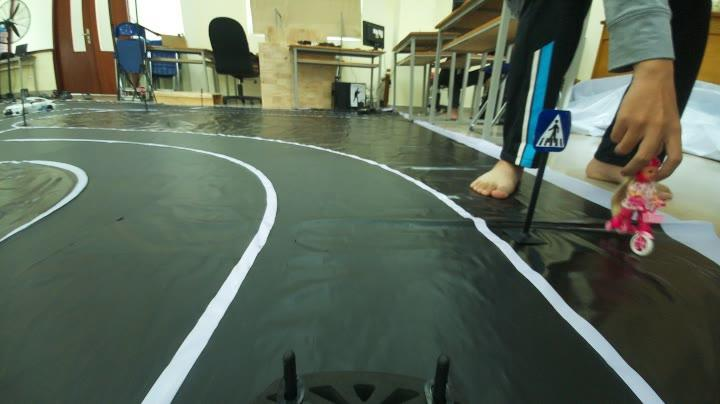crosswalk: (539, 110, 572, 151)
pedestrian: (617, 158, 671, 254)
